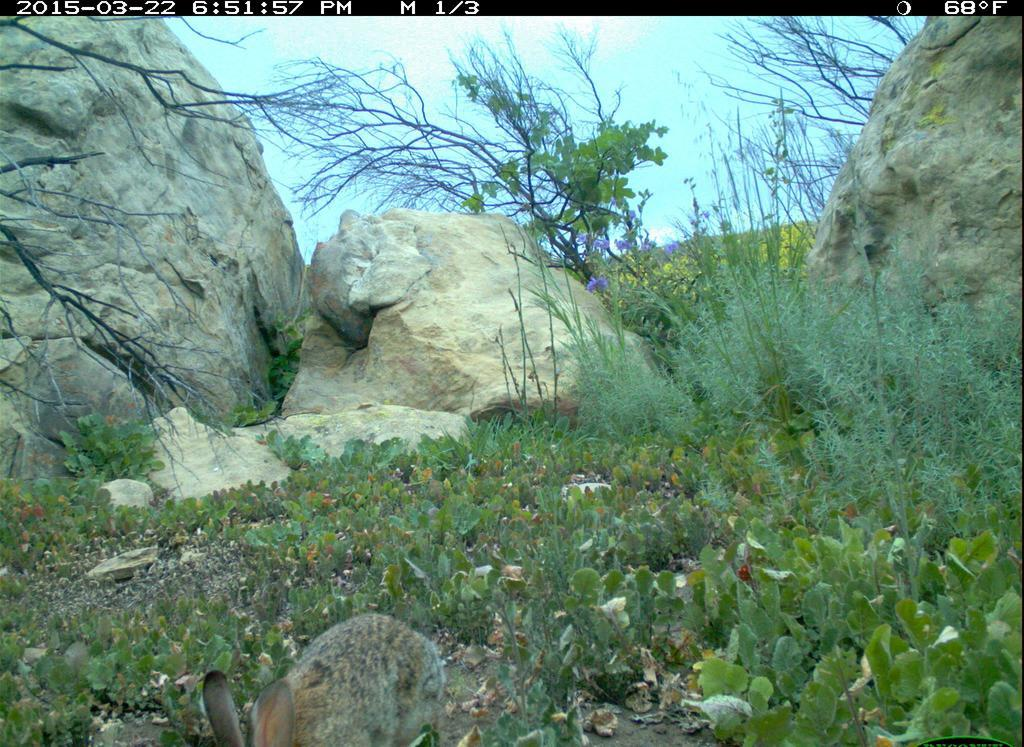rabbit: (191, 605, 456, 747)
